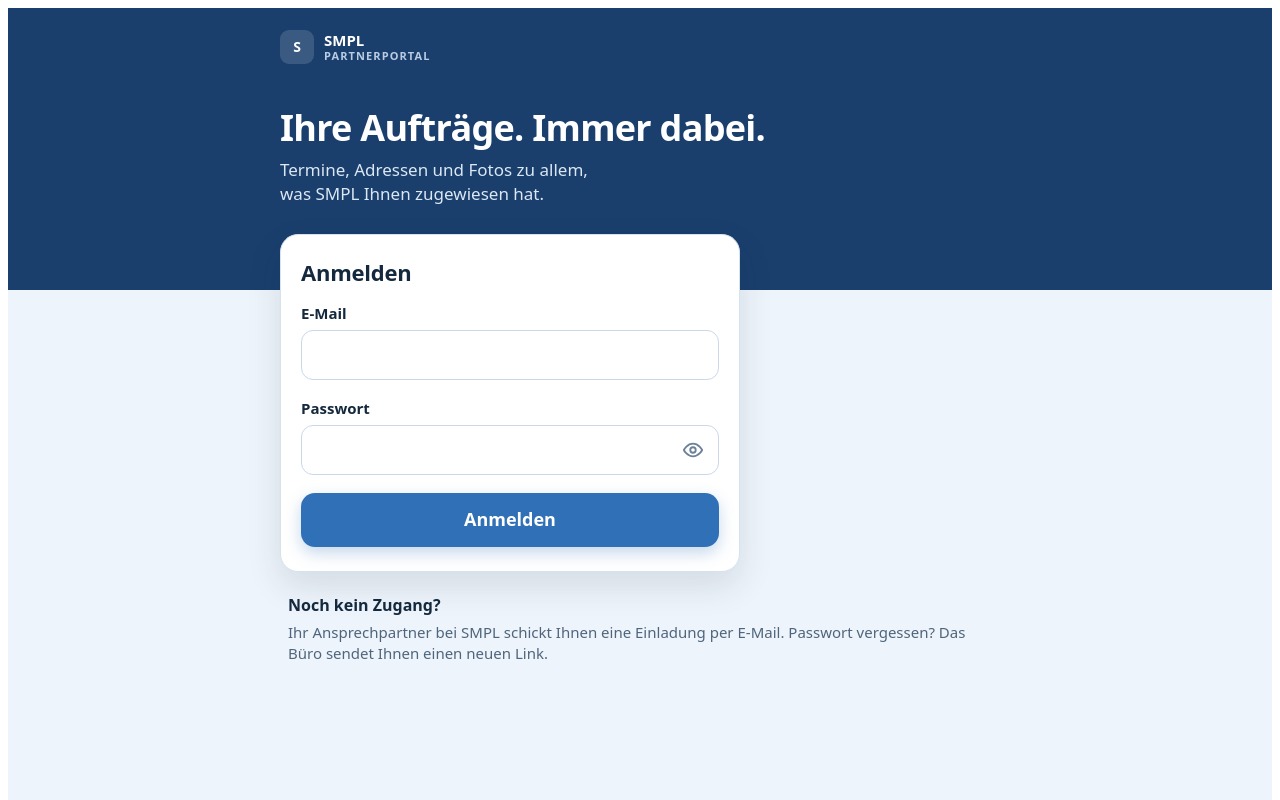
Test case: PortalApp › signs a partner in and shows their jobs grouped by day
The width and height of the screenshot is (1280, 800).
Type "a.hoffmann@hoffmann-dach.de" into the field labelled "E-Mail".
click(510, 355); type("a.hoffmann@hoffmann-dach.de")  # box x1=301 y1=330 x2=719 y2=380
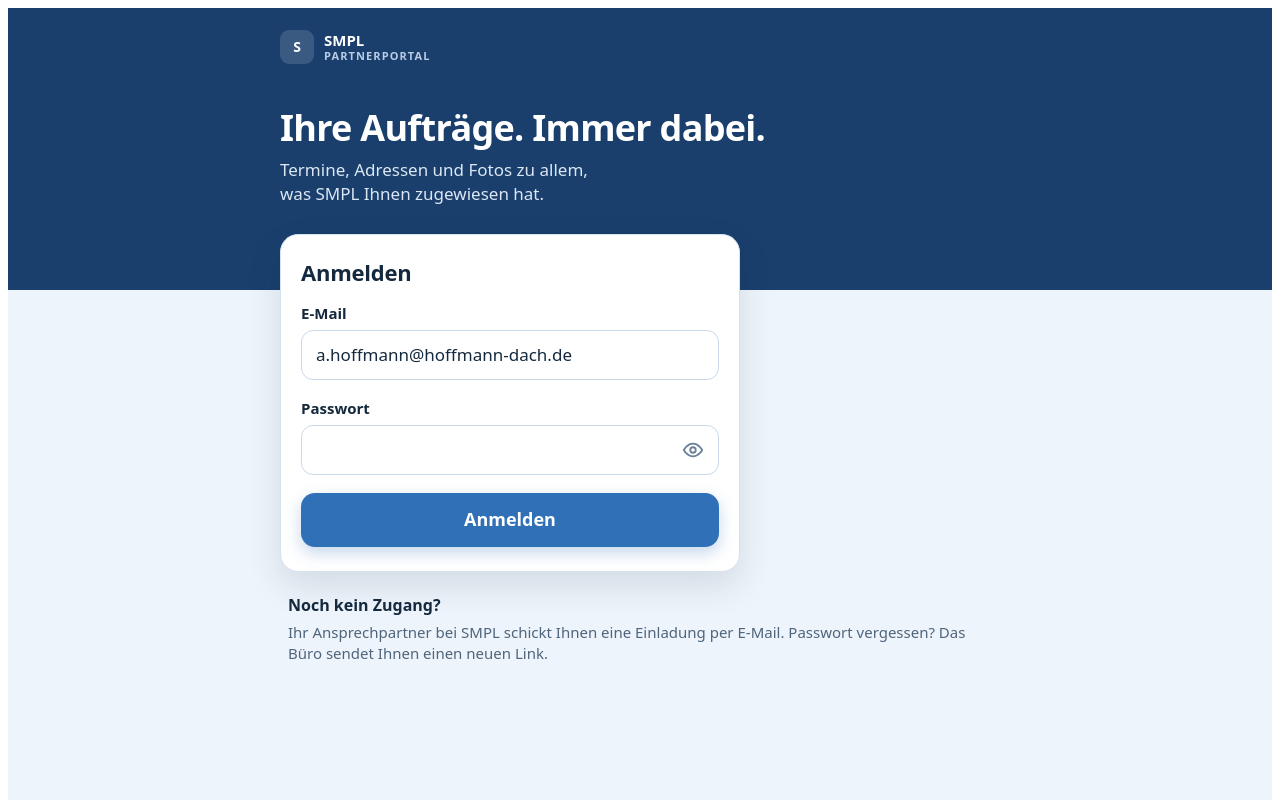
Type "Dachrinne2026!" into the password field labelled "Passwort".
click(510, 450); type("Dachrinne2026!")  # box x1=301 y1=425 x2=719 y2=475
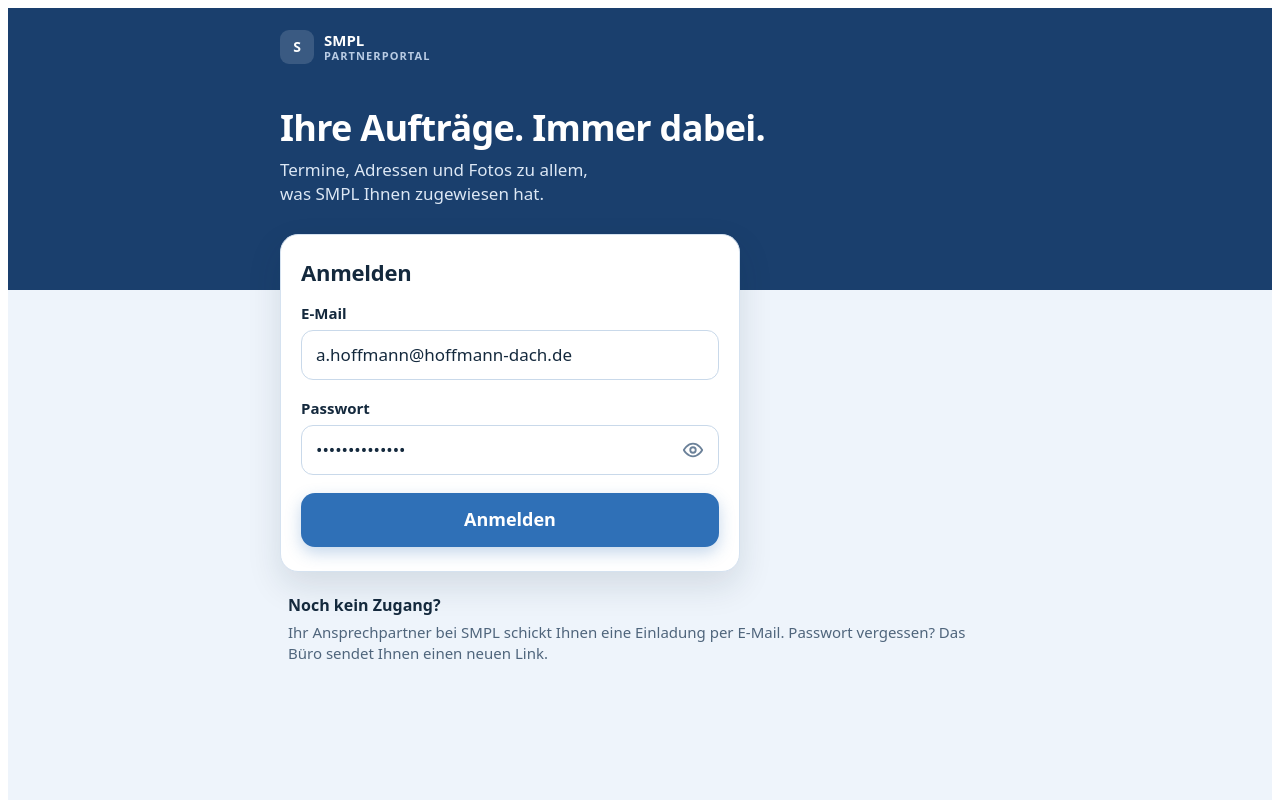
Click the button "Anmelden".
click(510, 520)  # box x1=301 y1=493 x2=719 y2=547
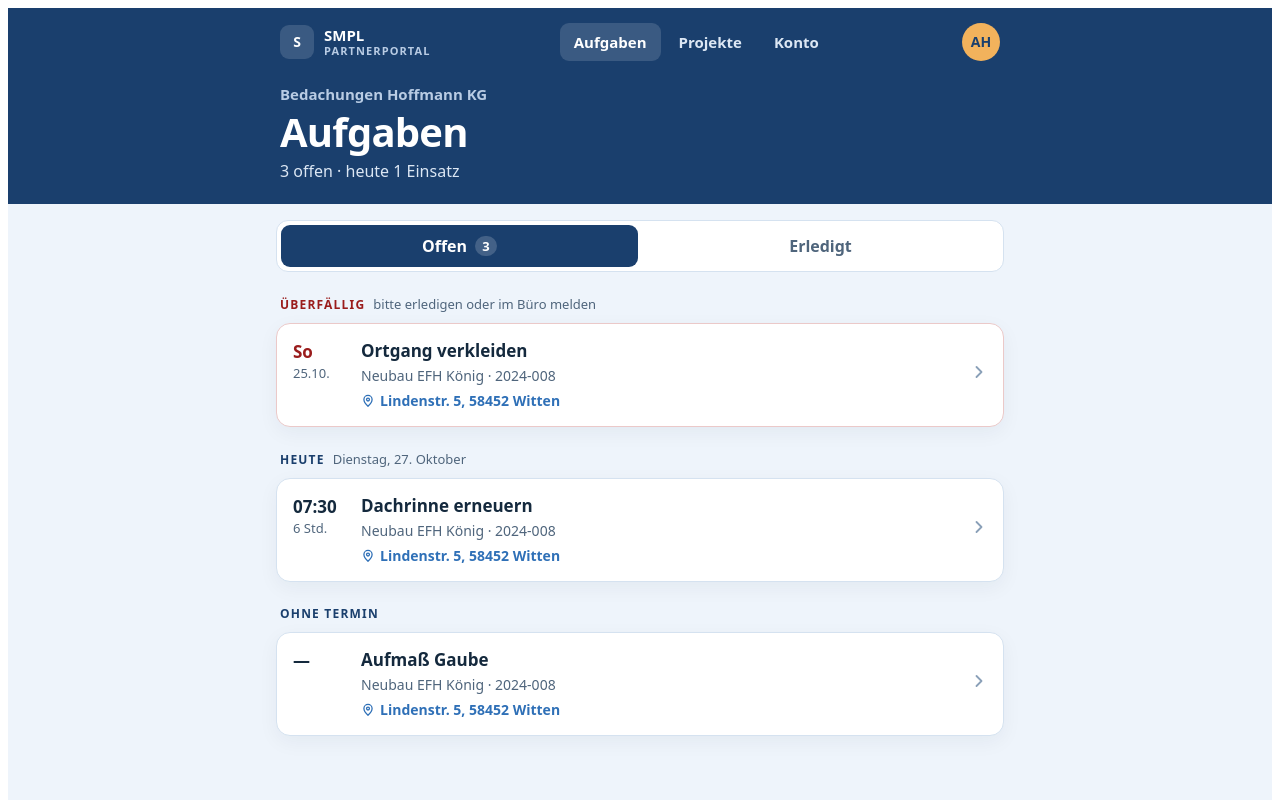
Expected: the heading "Aufgaben" is shown, x1=280 y1=104 x2=468 y2=159
Expected: the text "Ortgang verkleiden" is shown, x1=361 y1=339 x2=527 y2=362
Expected: the text "07:30" is shown, x1=293 y1=495 x2=337 y2=518
